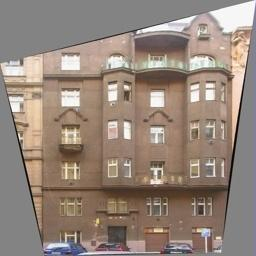building: (38, 2, 237, 256)
